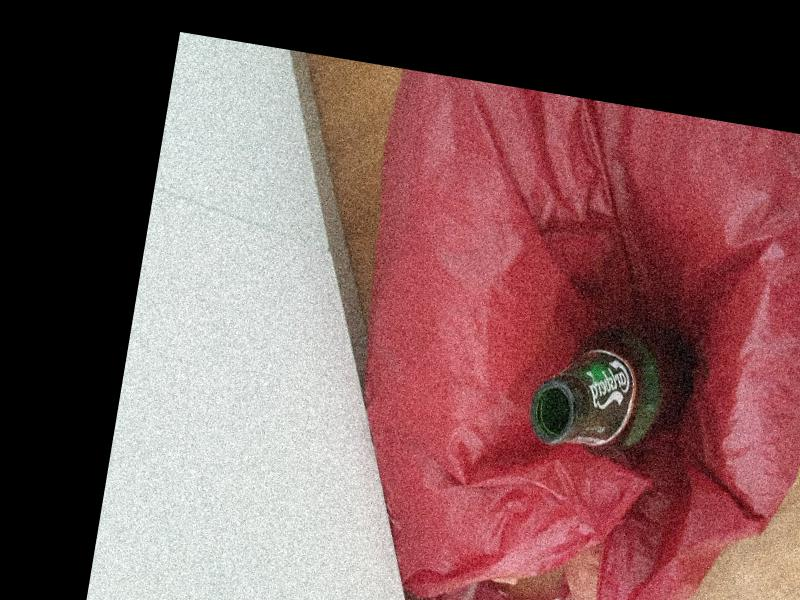Beer: (526, 314, 701, 466)
